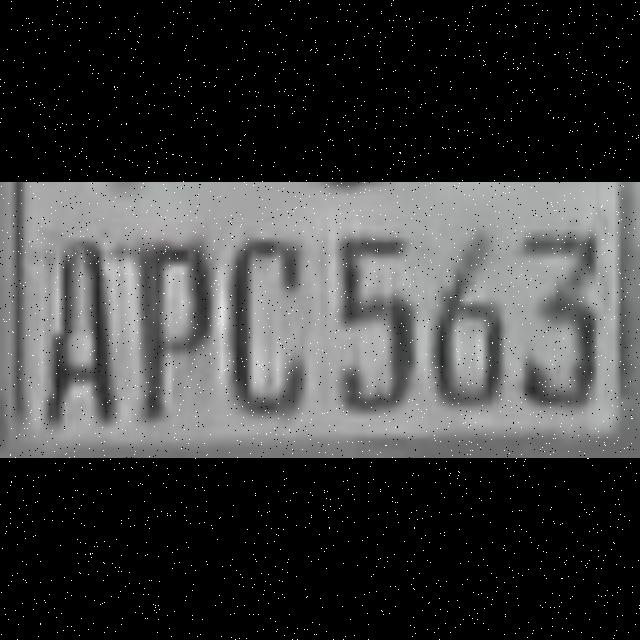3: (524, 226, 620, 418)
5: (328, 226, 424, 418)
6: (426, 226, 522, 418)
A: (36, 226, 132, 418)
C: (232, 226, 328, 418)
P: (134, 226, 230, 418)
